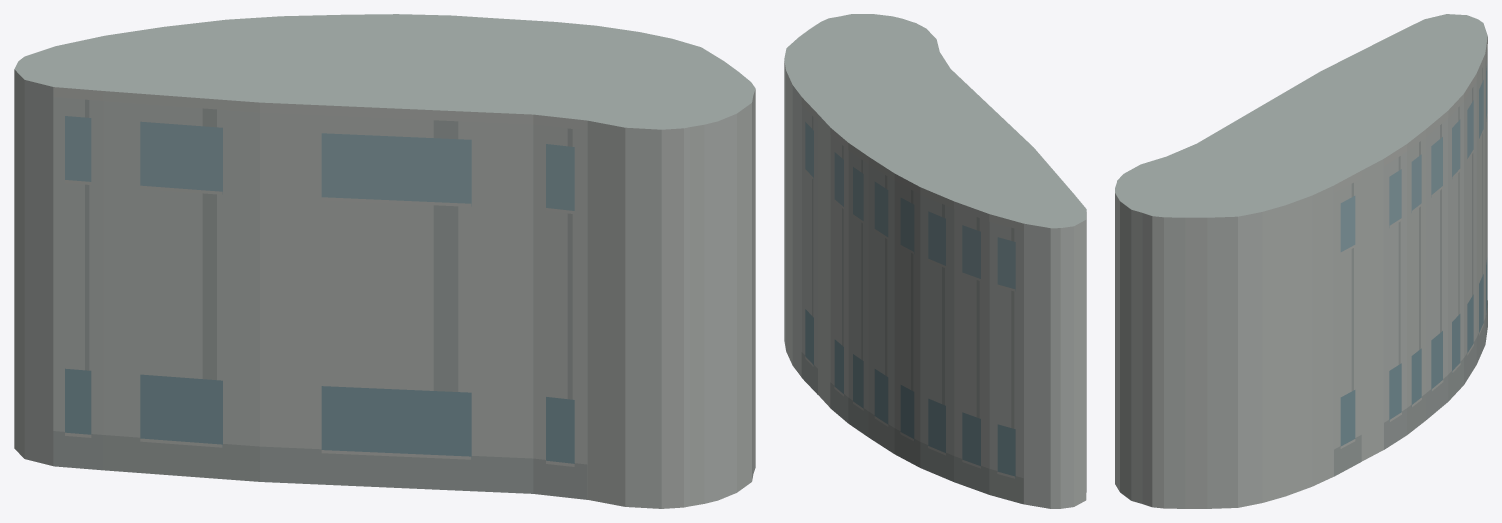
Rendered from survey-upis-33008619.glb.
The picture shows the model from 3 angles, left to right: view 1: azimuth 30°, elevation 25°; view 2: azimuth 150°, elevation 25°; view 3: azimuth 270°, elevation 25°; orthographic projection. The views are drawn at different scales.
Parts seen in each view (by area): view 1: survey-upis-33008619.tmp; view 2: survey-upis-33008619.tmp; view 3: survey-upis-33008619.tmp.
Boxes of the visible parts, box(x1,y1,x2,y2) form: survey-upis-33008619.tmp: box(14, 14, 755, 508); survey-upis-33008619.tmp: box(784, 14, 1086, 508); survey-upis-33008619.tmp: box(1115, 14, 1487, 508).
Bounding box in the file's own units: 13.73 × 9.15 × 10.62.
